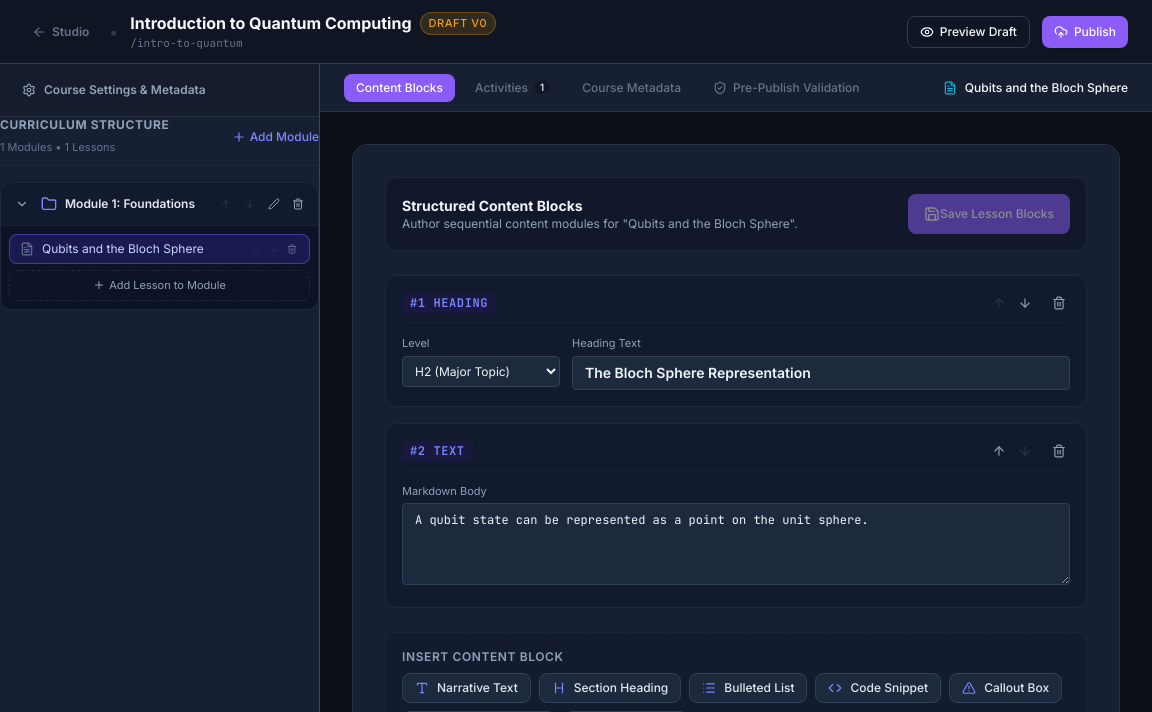
Test: Phase 7 Creator Studio & Course Authoring › Course Authoring Workspace (CourseEditorPage) › loads course draft with curriculum navigation, content blocks, and pre-publish validation
Expected: the heading "Introduction to Quantum Computing" is shown, [130,11,412,35]
Expected: the text "Module 1: Foundations" is shown, [65,196,195,212]
# Switch to pre-publish validation tab
Click the button "Pre-Publish Validation". click: (786, 88)
box: [701,74,872,102]
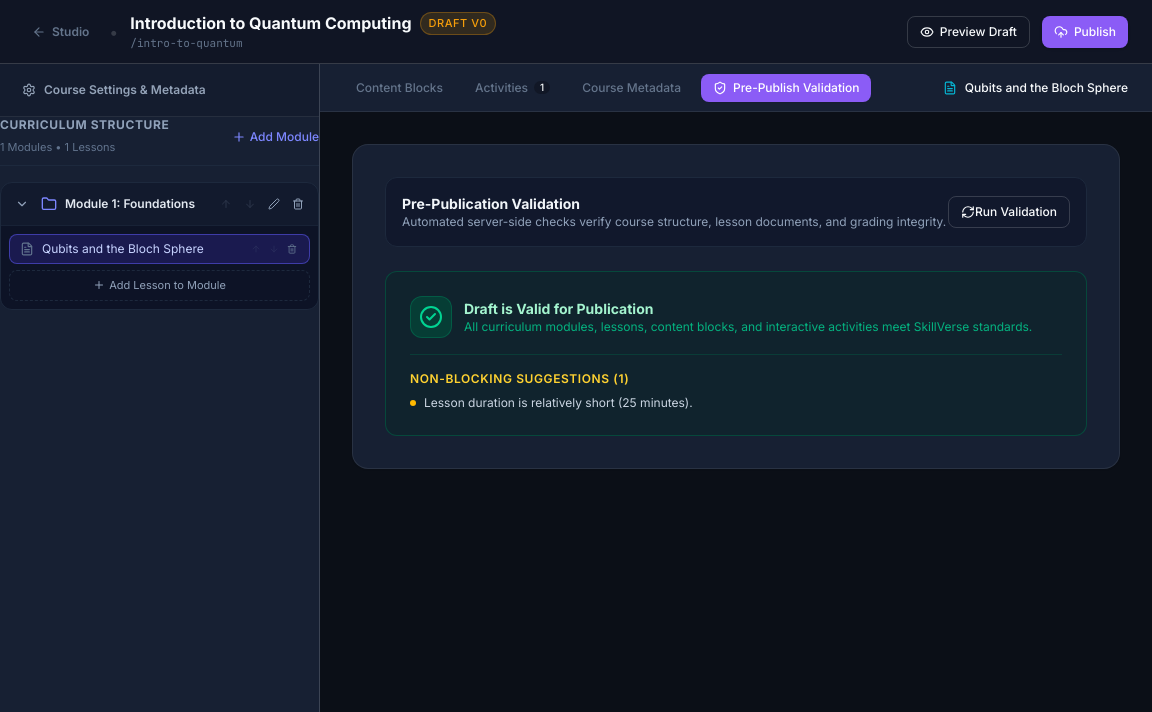
Expected: the heading "Draft is Valid for Publication" is shown, [464,300,654,317]
